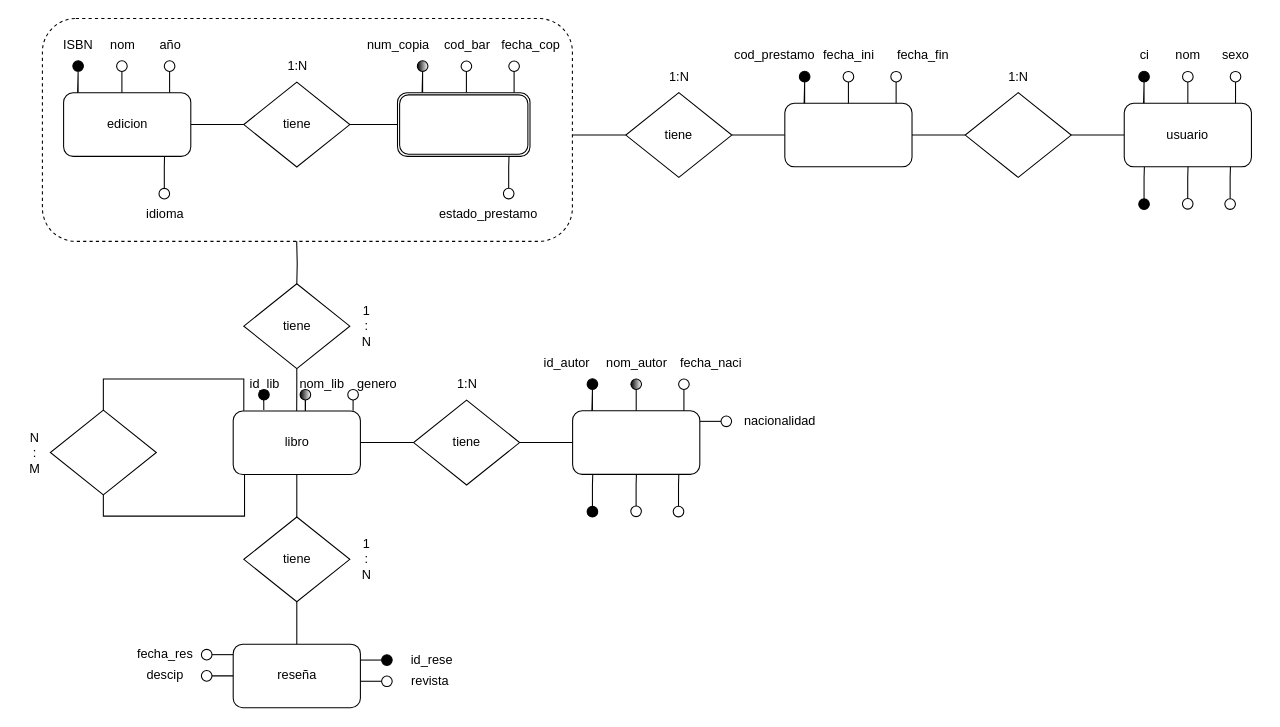
Image size: 1280x727. Some labels were removed from this diagram. The shapes that lost their labels are listed below. From the top down, each one's box as (x1, y1, x2, y2) in pixels, then its label:
(396, 92, 530, 156): Copia
(784, 102, 912, 167): prestamo
(964, 92, 1071, 177): solicita
(49, 409, 156, 495): referencia
(572, 410, 700, 474): autor
